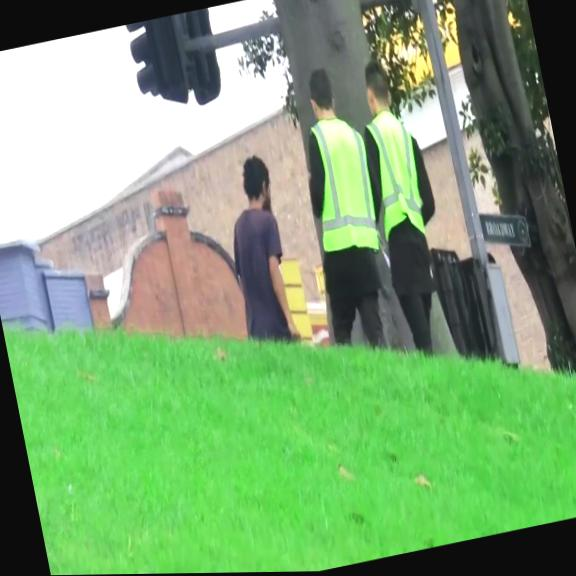safety_vest: (298, 112, 384, 264), (362, 105, 431, 245)
